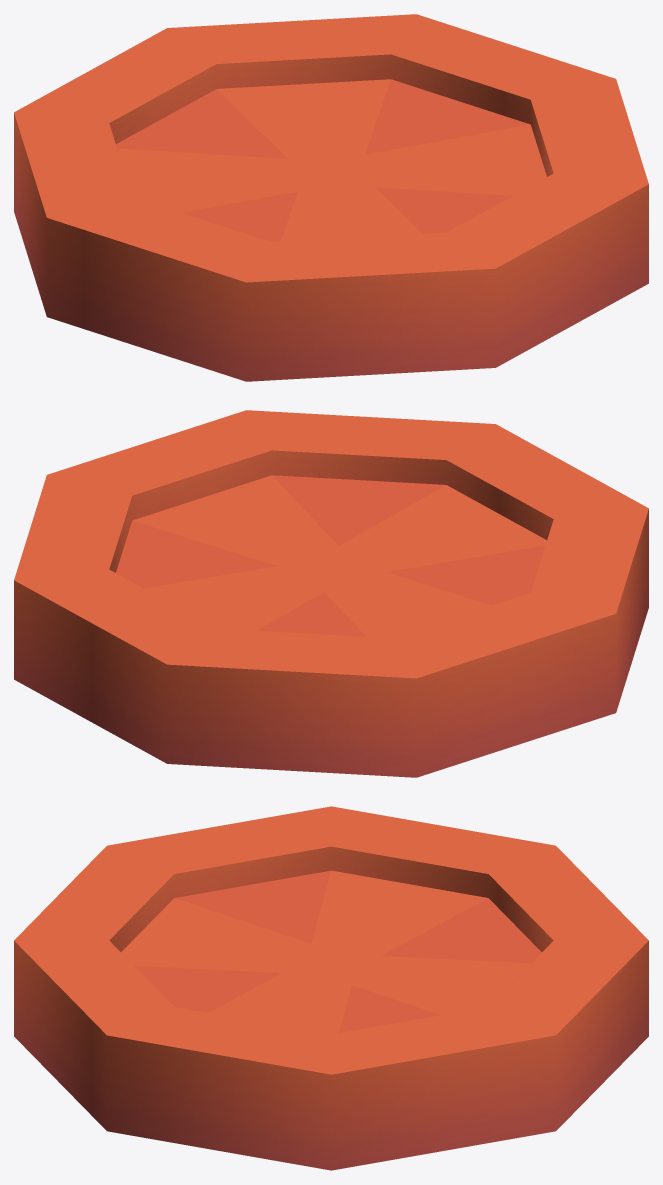
File: tomato-slice.glb
The picture shows the model from 3 angles, top to bottom: view 1: azimuth 30°, elevation 25°; view 2: azimuth 150°, elevation 25°; view 3: azimuth 270°, elevation 25°; orthographic projection. The views are drawn at different scales.
Parts seen in each view (by area): view 1: tomato-slice; view 2: tomato-slice; view 3: tomato-slice.
Boxes of the visible parts, <box> form: tomato-slice: <box>14,14,648,381</box>; tomato-slice: <box>14,410,648,777</box>; tomato-slice: <box>14,806,648,1170</box>.
Bounding box in the file's own units: 0.18 × 0.03 × 0.18.
1 material, 1 textured.
